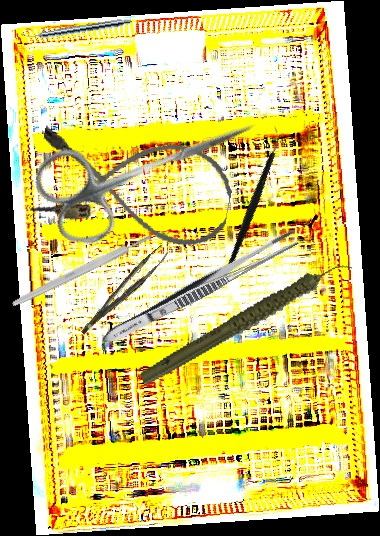Cannula: (28, 119, 239, 253)
Chopper: (184, 125, 322, 270)
Dressing Forceps: (98, 225, 302, 351)
Handpiece: (126, 259, 368, 388), (20, 15, 133, 43)
Iris Scissors: (26, 75, 274, 257)
Scalpel Handle: (9, 232, 155, 309)
Tissue Forceps: (71, 244, 174, 335)
